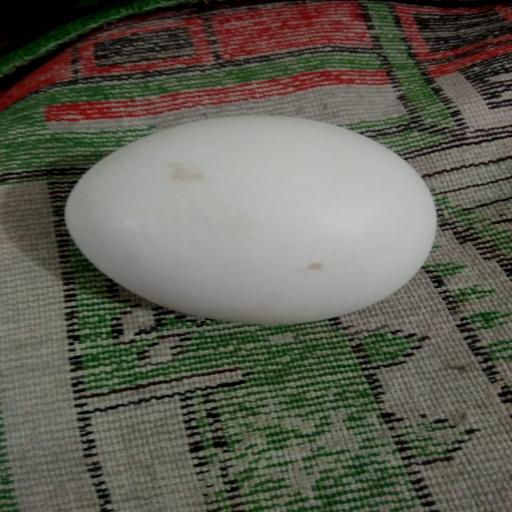telur: (61, 108, 448, 332)
